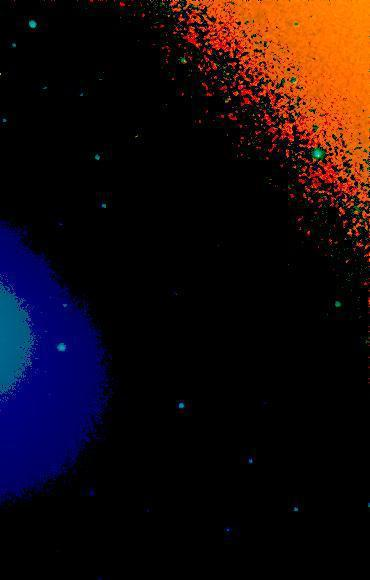star: (338, 217, 368, 247)
